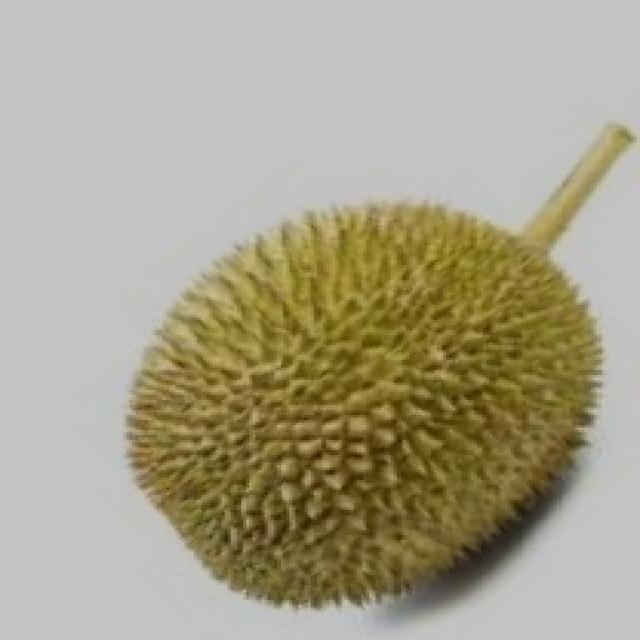fruit: (289, 205, 640, 635), (89, 262, 431, 638)
